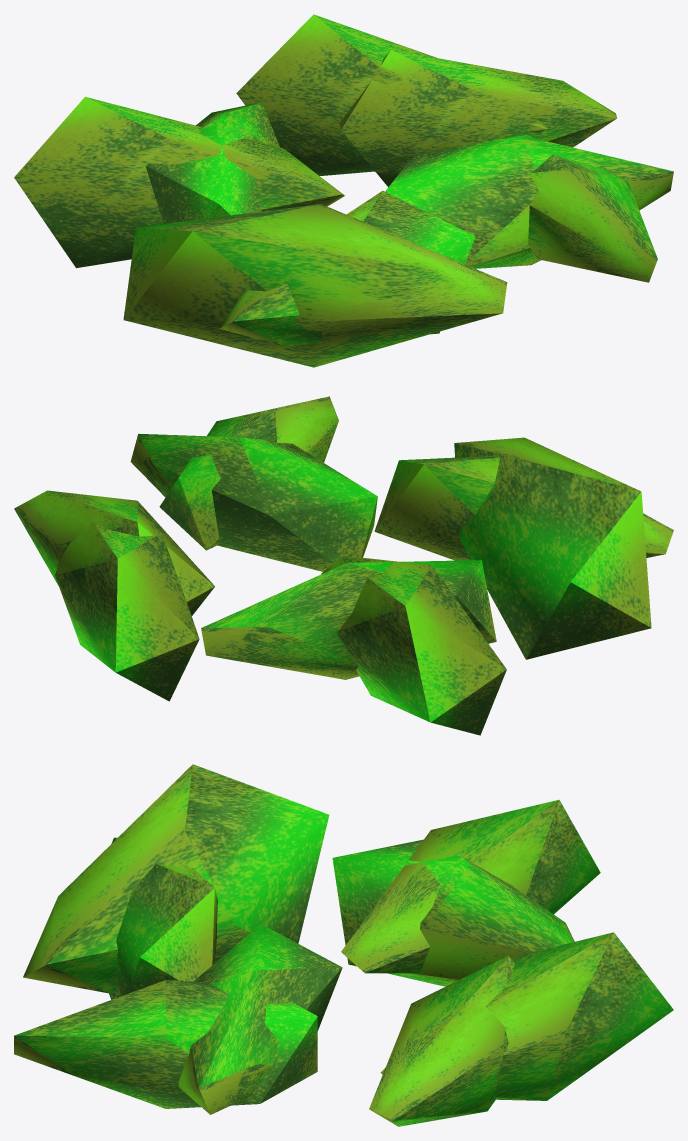
File: static.glb
3 views of the same model, one above another, from view 1: azimuth 30°, elevation 25°; view 2: azimuth 150°, elevation 25°; view 3: azimuth 270°, elevation 25° (orthographic). The views are drawn at different scales.
Visible parts, largest first — view 1: Sphere_4, Sphere_16, Sphere_10, Sphere, Sphere_14, Sphere_6, Sphere_12, Sphere_8; view 2: Sphere_4, Sphere, Sphere_16, Sphere_14, Sphere_12, Sphere_8, Sphere_6, Sphere_10; view 3: Sphere_4, Sphere_6, Sphere_14, Sphere_16, Sphere_12, Sphere_10, Sphere, Sphere_8.
Part boxes in pixels (x1,y1,x2,y2): Sphere_4: (123,204,507,367); Sphere_16: (14,96,344,268); Sphere_10: (339,50,616,187); Sphere: (385,135,673,268); Sphere_14: (236,14,547,175); Sphere_6: (524,134,657,282); Sphere_12: (145,102,279,223); Sphere_8: (219,191,475,346); Sphere_4: (454,437,651,659); Sphere: (130,433,377,571); Sphere_16: (321,556,506,735); Sphere_14: (55,522,199,701); Sphere_12: (201,560,496,679); Sphere_8: (374,456,673,560); Sphere_6: (159,396,338,550); Sphere_10: (14,490,214,615); Sphere_4: (23,764,329,993); Sphere_6: (14,980,317,1108); Sphere_14: (380,932,673,1100); Sphere_16: (341,799,600,973); Sphere_12: (332,839,574,986); Sphere_10: (369,955,514,1126); Sphere: (178,924,342,1114); Sphere_8: (109,837,217,999).
Bounding box in the file's own units: 0.9953 × 0.2474 × 0.9393.
1 material, 1 textured.
